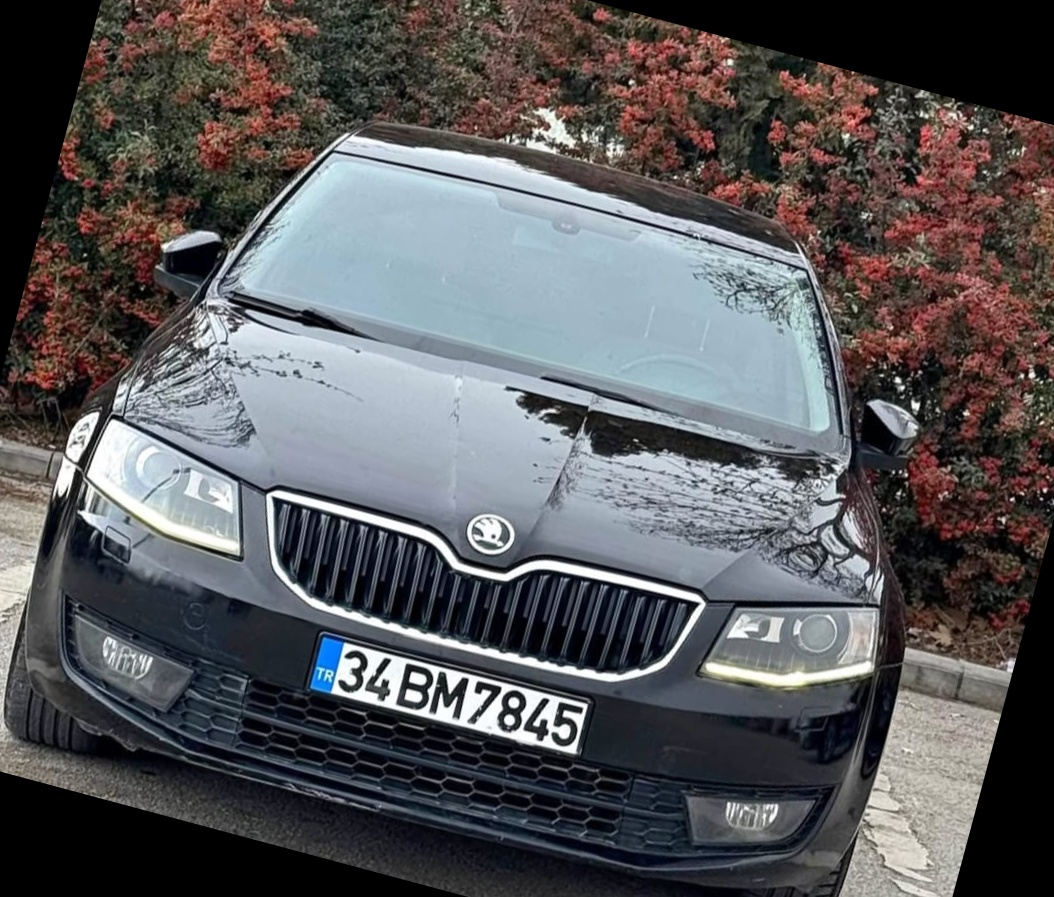plaka: (329, 623, 596, 770)
